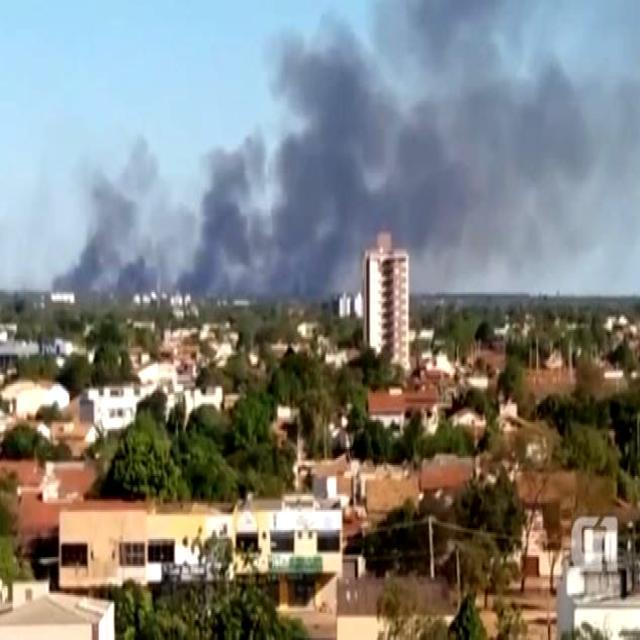Smoke: (188, 0, 635, 309), (61, 124, 186, 319)
